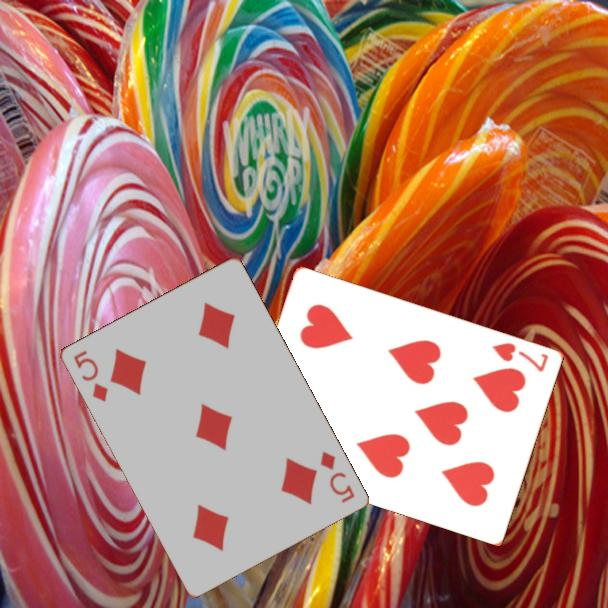d05: (316, 448, 357, 506), (70, 347, 110, 405)
h07: (489, 339, 552, 375)
